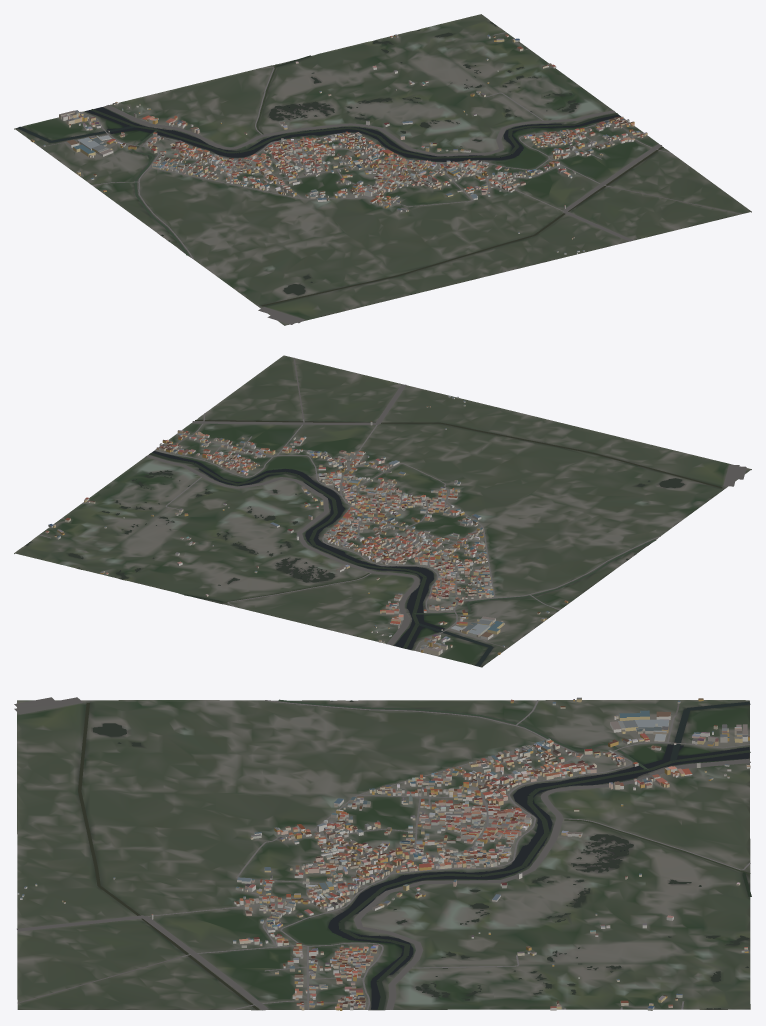
3 views of the same model, one above another, from view 1: azimuth 30°, elevation 25°; view 2: azimuth 150°, elevation 25°; view 3: azimuth 270°, elevation 25° (orthographic). The views are drawn at different scales.
Visible parts, largest first — view 1: ground, buildings, water, roads; view 2: ground, buildings, water, roads; view 3: ground, buildings, water, roads.
Boxes of the visible parts, <box> form: ground: <box>14,14,751,325</box>; buildings: <box>30,34,647,254</box>; water: <box>17,22,663,306</box>; roads: <box>40,32,741,324</box>; ground: <box>14,355,751,667</box>; buildings: <box>45,395,568,655</box>; water: <box>25,420,722,666</box>; roads: <box>39,357,746,650</box>; ground: <box>17,700,750,1010</box>; buildings: <box>17,697,750,1010</box>; water: <box>78,699,751,1010</box>; roads: <box>14,697,750,1010</box>.
Bounding box in the file's own units: 1418 × 17.1 × 1411.
